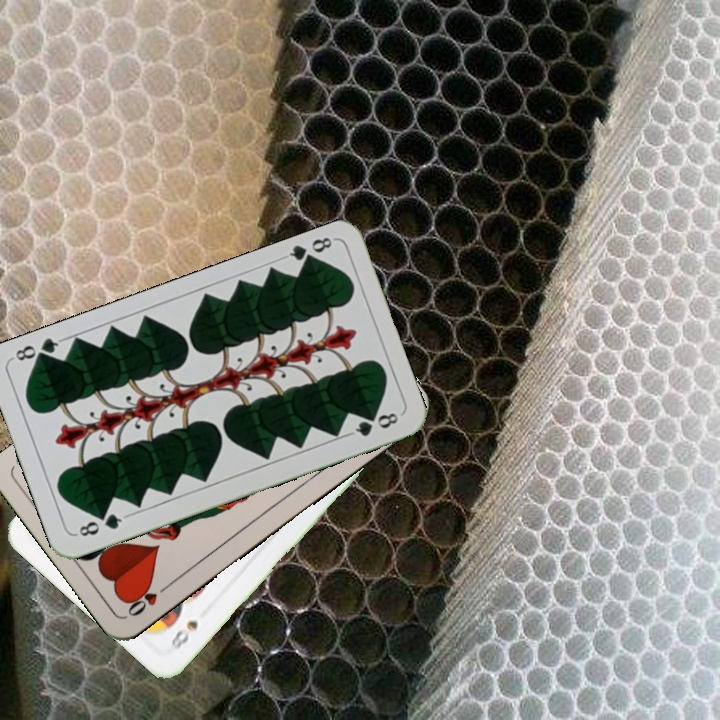G8: (279, 232, 337, 269), (72, 509, 129, 540)
HO: (123, 579, 174, 620)
S8: (166, 616, 201, 654)
